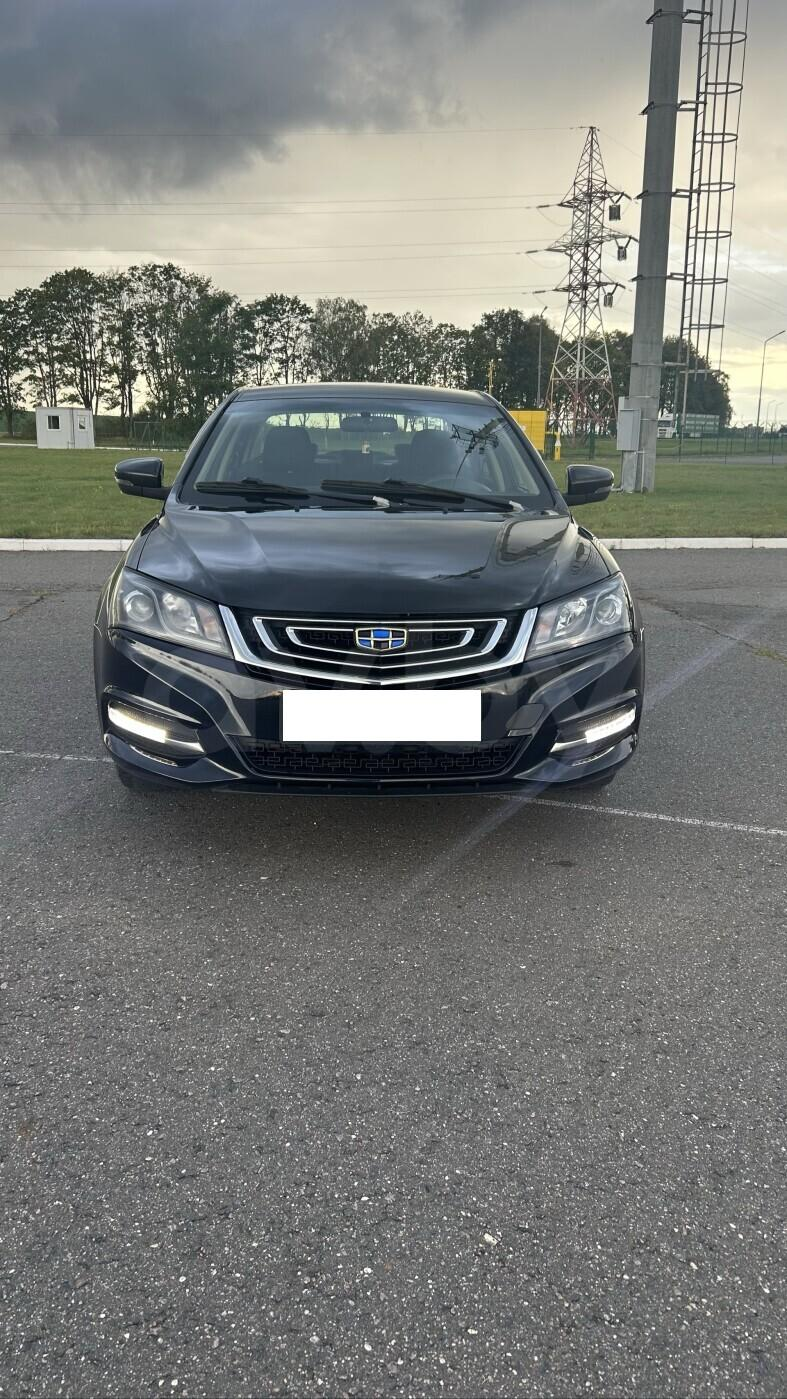Emgrand_2019-2021: (95, 384, 643, 794)
